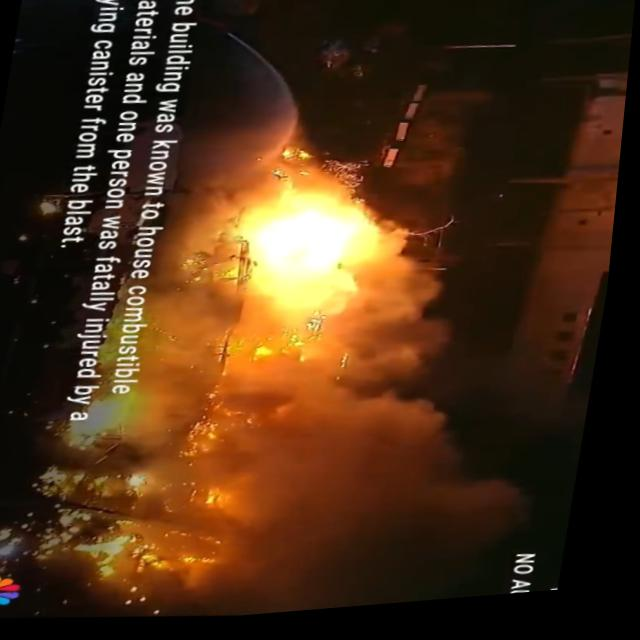Fire: (96, 436, 265, 611), (241, 201, 378, 326), (148, 210, 248, 375), (227, 327, 338, 402), (75, 374, 173, 454)
